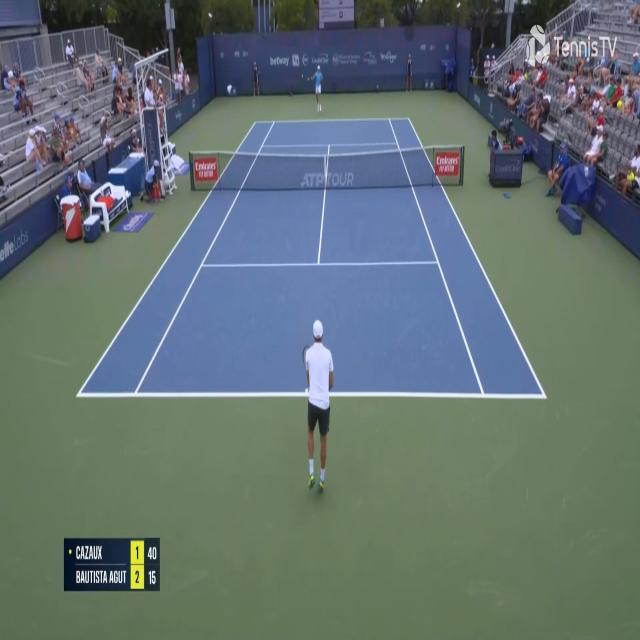tennis-player: (300, 316, 336, 494), (308, 62, 324, 114)
